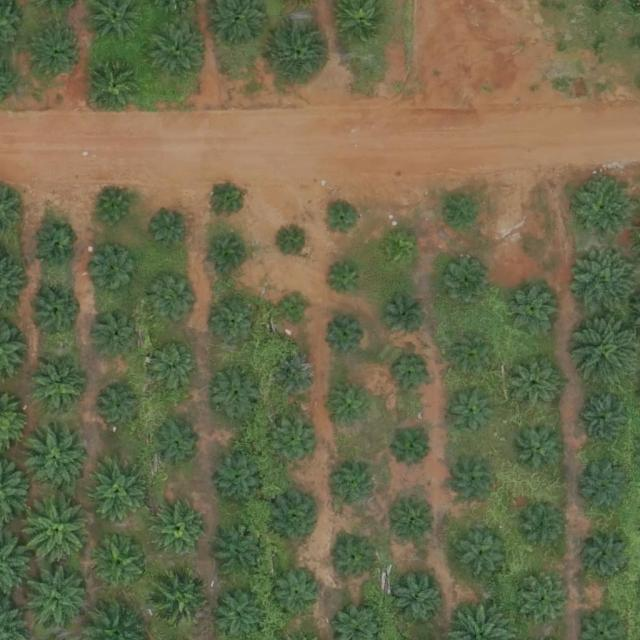Healthy: (19, 492, 97, 571), (270, 21, 333, 84), (146, 17, 208, 80), (26, 429, 88, 492), (573, 178, 635, 241), (149, 571, 212, 633), (27, 566, 90, 628), (85, 461, 147, 523), (31, 27, 86, 82), (89, 58, 144, 113), (32, 361, 87, 416), (213, 453, 268, 508), (212, 528, 267, 583), (458, 528, 513, 583), (518, 573, 573, 628), (389, 572, 444, 627), (93, 539, 148, 594), (153, 504, 207, 559), (584, 466, 631, 514), (510, 287, 557, 334), (585, 395, 632, 442), (274, 574, 321, 621)
Small: (28, 285, 83, 340), (210, 366, 265, 421), (582, 528, 637, 583), (269, 491, 324, 546), (94, 309, 141, 357), (97, 383, 144, 431), (152, 418, 199, 466), (442, 261, 489, 309), (31, 222, 78, 270), (92, 249, 139, 296), (150, 342, 197, 389), (151, 275, 198, 322), (212, 302, 259, 349), (452, 330, 499, 377), (333, 537, 380, 584), (326, 465, 373, 512), (451, 459, 498, 506), (517, 504, 564, 551), (518, 424, 565, 471), (452, 387, 499, 434), (513, 362, 560, 409), (269, 419, 316, 466), (274, 356, 321, 403), (381, 296, 428, 343), (390, 352, 437, 399), (389, 424, 436, 471), (391, 501, 438, 548), (208, 235, 248, 275), (437, 193, 477, 233), (152, 210, 191, 250), (324, 199, 363, 239), (332, 385, 371, 425), (380, 232, 419, 272), (96, 190, 135, 229), (208, 180, 247, 219), (326, 262, 365, 301), (326, 316, 365, 355), (280, 227, 311, 259), (280, 293, 311, 325)
